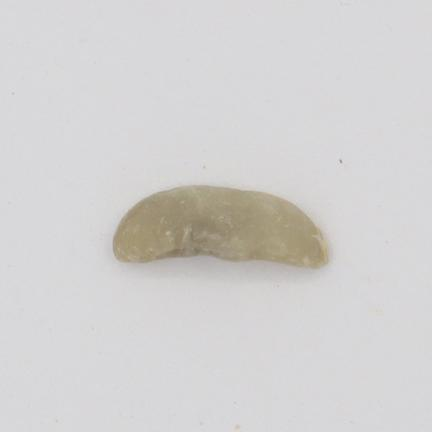shell: (114, 186, 327, 268)
